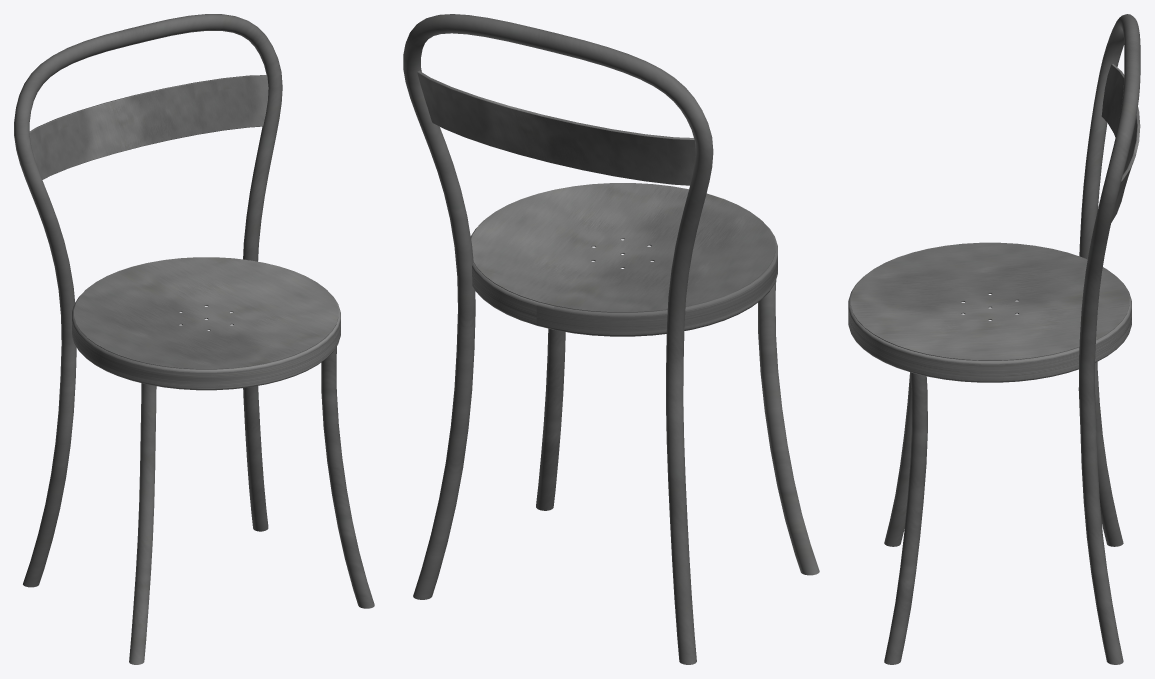
Rendered from SouvignetDesign-Chaise_DS_No_1_acier_brosse-3D.FBX.
3 views of the same model, side by side, from view 1: azimuth 30°, elevation 25°; view 2: azimuth 150°, elevation 25°; view 3: azimuth 270°, elevation 25° (orthographic). The views are drawn at different scales.
Parts seen in each view (by area): view 1: SVD010003 Chaise DS N°1 acier brossé Object by Polantis 2013; view 2: SVD010003 Chaise DS N°1 acier brossé Object by Polantis 2013; view 3: SVD010003 Chaise DS N°1 acier brossé Object by Polantis 2013.
Boxes of the visible parts, box(x1,y1,x2,y2) form: SVD010003 Chaise DS N°1 acier brossé Object by Polantis 2013: box(14, 14, 374, 664); SVD010003 Chaise DS N°1 acier brossé Object by Polantis 2013: box(403, 14, 819, 664); SVD010003 Chaise DS N°1 acier brossé Object by Polantis 2013: box(848, 14, 1140, 664).
Size of the model in its own units: 0.4475 by 0.4047 by 0.8416.
Materials: 1 (1 with a texture image).
